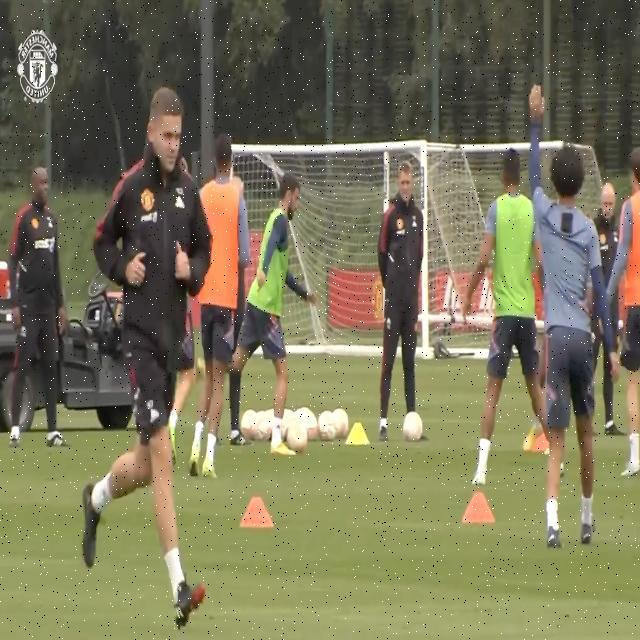Adidas: (442, 277, 462, 316), (476, 278, 497, 315), (149, 406, 160, 424), (175, 194, 184, 210)
